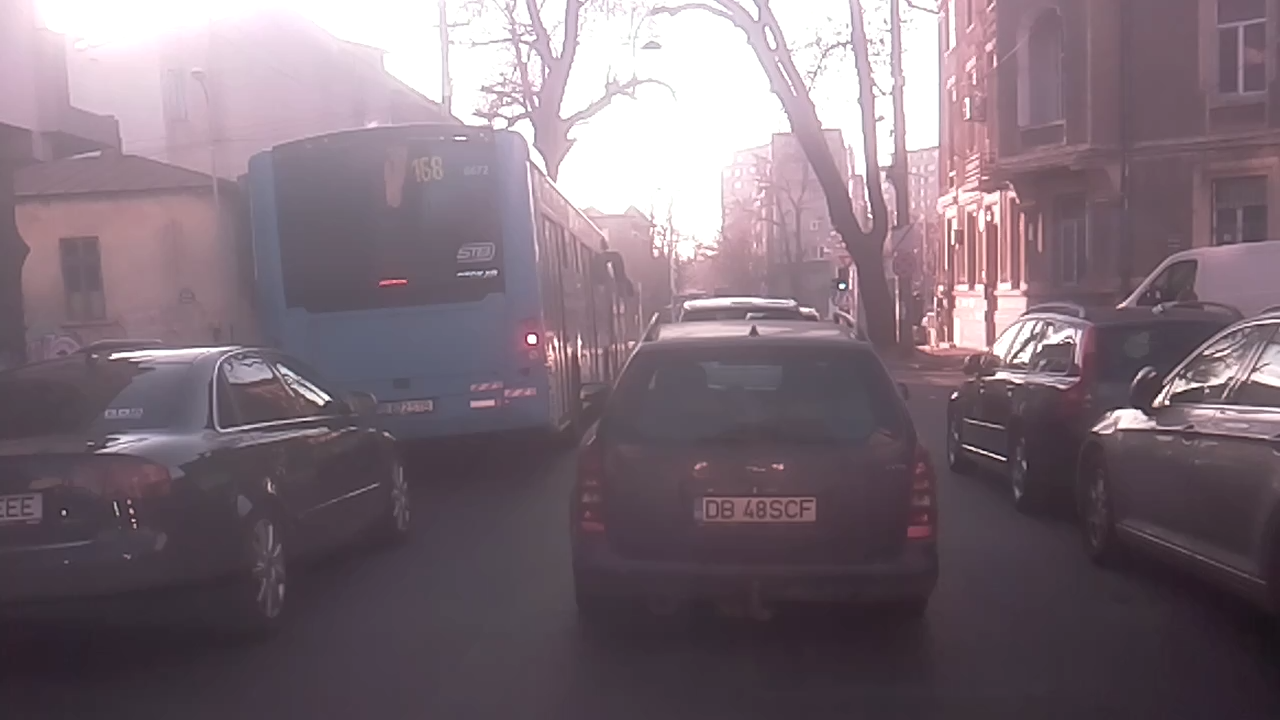license-plate: (689, 492, 820, 525)
